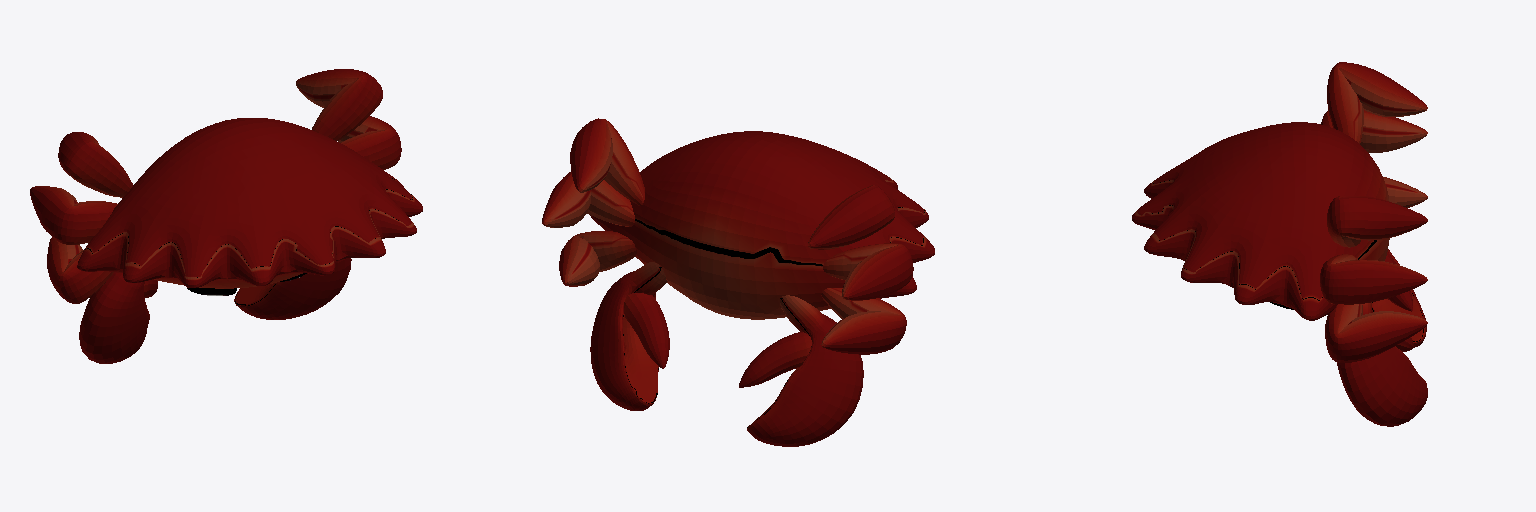
3 renders of one model, left to right at view 1: azimuth 30°, elevation 25°; view 2: azimuth 150°, elevation 25°; view 3: azimuth 270°, elevation 25°, orthographic.
Parts seen in each view (by area): view 1: obj13, obj12, obj4, obj10, obj7, obj8, obj6, obj3; view 2: obj13, obj12, obj10, obj4, obj6, obj7, obj8, obj3, obj5, obj9, obj11; view 3: obj13, obj10, obj8, obj5, obj3, obj4, obj7, obj6, obj12.
Boxes of the visible parts, x1,y1,x2,y2 form: obj13: [77, 118, 422, 288]; obj12: [79, 272, 149, 363]; obj4: [296, 69, 382, 140]; obj10: [234, 258, 351, 319]; obj7: [30, 186, 117, 244]; obj8: [58, 132, 132, 197]; obj6: [47, 237, 113, 303]; obj3: [338, 116, 401, 169]; obj13: [590, 131, 934, 319]; obj12: [747, 295, 863, 446]; obj10: [590, 262, 667, 410]; obj4: [570, 118, 644, 205]; obj6: [821, 288, 906, 354]; obj7: [823, 243, 913, 300]; obj8: [808, 185, 894, 249]; obj3: [542, 172, 634, 227]; obj5: [559, 231, 636, 286]; obj9: [624, 293, 669, 368]; obj11: [739, 332, 811, 387]; obj13: [1132, 122, 1389, 320]; obj10: [1337, 302, 1427, 426]; obj8: [1327, 62, 1427, 143]; obj5: [1325, 304, 1427, 362]; obj3: [1320, 254, 1427, 304]; obj4: [1327, 196, 1427, 247]; obj7: [1321, 110, 1427, 152]; obj6: [1383, 177, 1427, 207]; obj12: [1372, 249, 1426, 347].
Size of the model in its own units: 1.23 by 0.8566 by 0.9153.
1 materials, 1 textured.